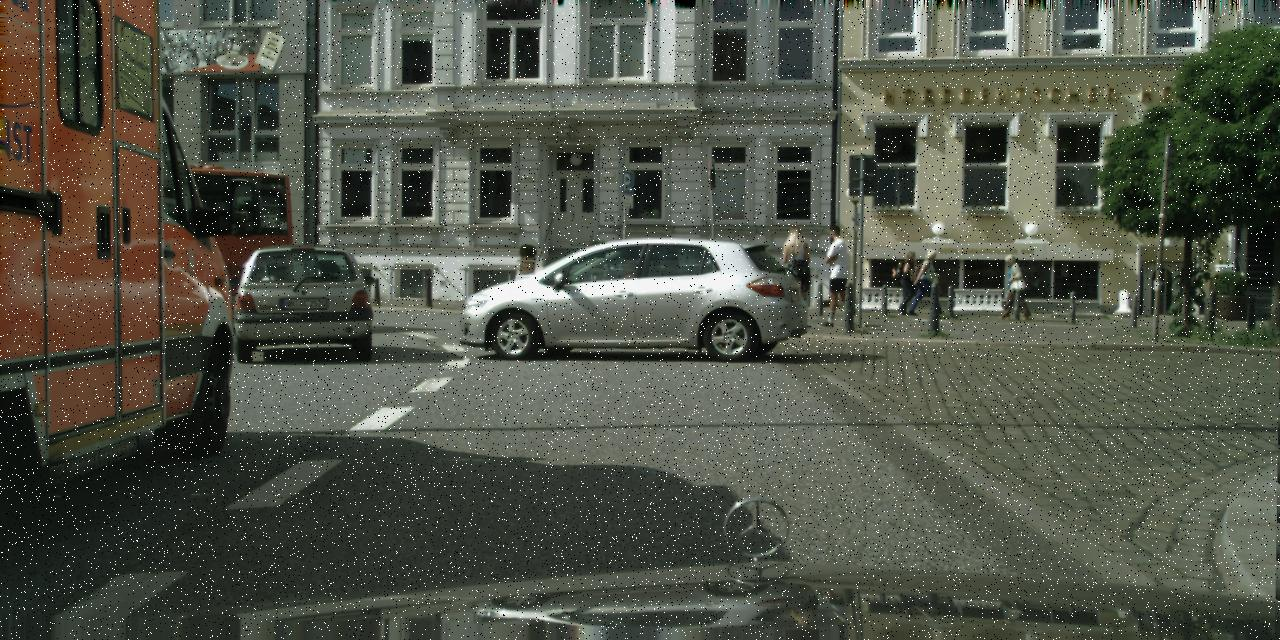ped: (774, 226, 815, 326), (816, 226, 856, 326), (914, 248, 941, 314), (998, 253, 1025, 319), (894, 251, 919, 313)
